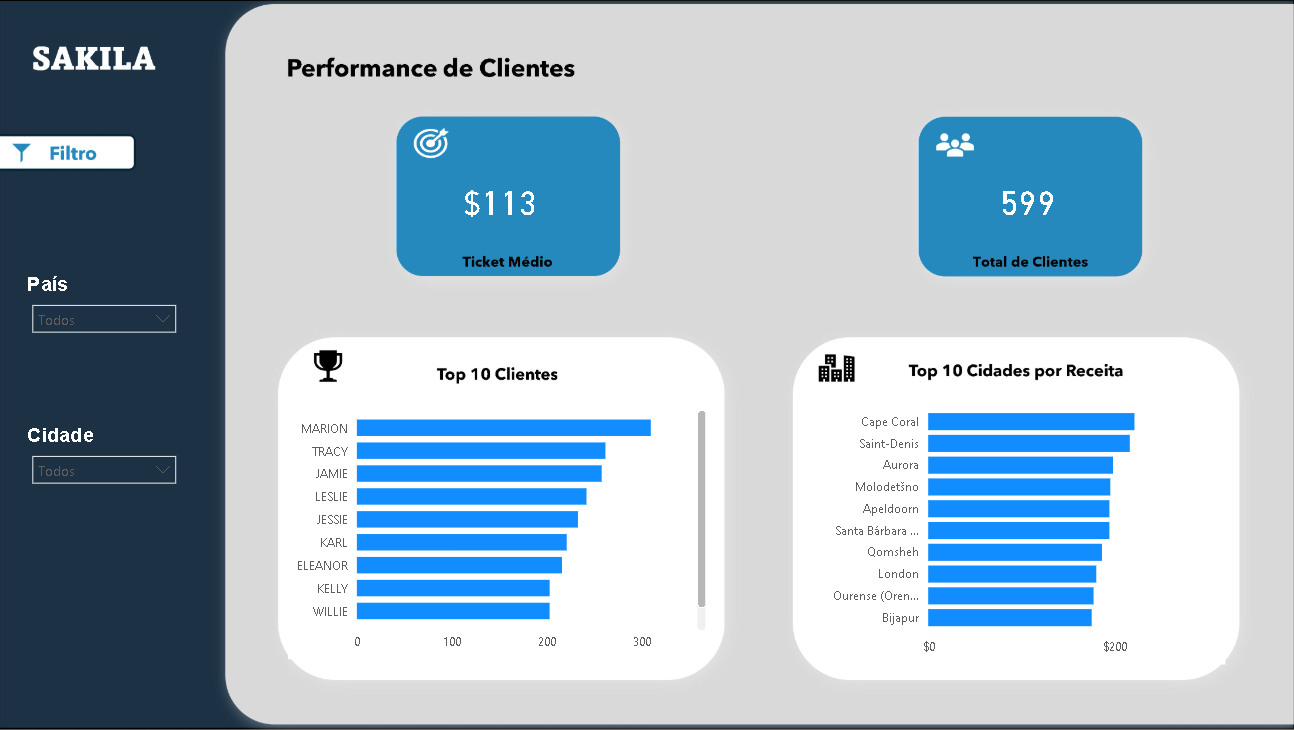

What the dashboard file says about the page in this screenshot:
{"tool":"powerbi","page":{"name":"Página 2","canvas":[1280,720],"ordinal":1},"visuals":[{"type":"barChart","fields":{"Category":["sakila vw_clientes_mais_gastam.Nome","sakila vw_clientes_mais_gastam.Sobrenome"],"Y":["Sum(sakila vw_clientes_mais_gastam.Total_gastos)"]},"box":[283,387.1,411.4,254.8],"z":0},{"type":"barChart","fields":{"Category":["sakila vw_receita_por_cidade.city"],"Y":["Sum(sakila vw_receita_por_cidade.total_receita)"]},"box":[792.7,381.3,401.7,265.5],"z":1000},{"type":"advanceCardE03760C5AB684758B56AA29F9E6C257B","fields":{"mainMeasure":["Sum(sakila vw_ticket_medio_por_cliente.ticket_medio_cliente)"]},"box":[375.4,142,227.6,114.8],"z":2000},{"type":"advanceCardE03760C5AB684758B56AA29F9E6C257B","fields":{"mainMeasure":["Count(sakila vw_clientes_mais_gastam.customer_id)"]},"box":[888,142,227.6,114.8],"z":3000},{"type":"slicer","title":"Cidade","fields":{"Values":["sakila vw_clientes_por_cidade.city"]},"box":[24.3,412.4,159.5,74.9],"z":5000},{"type":"slicer","title":"País","fields":{"Values":["sakila vw_clientes_por_cidade.country"]},"box":[24.3,265.5,159.5,66.1],"z":6001}]}

Visuals, with their boxes on the page's 1280x720 design canvas (x1, y1, x2, y2). These are canvas units, not pixel positions in the 1294x730 screenshot, which may show the page scaled, cropped or inside an application window:
barChart - sakila vw_clientes_mais_gastam.Nome x sakila vw_clientes_mais_gastam.Sobrenome: l=283, t=387, r=694, b=642
barChart - sakila vw_receita_por_cidade.city x Sum(sakila vw_receita_por_cidade.total_receita): l=793, t=381, r=1194, b=647
advanceCardE03760C5AB684758B56AA29F9E6C257B - Sum(sakila vw_ticket_medio_por_cliente.ticket_medio_cliente): l=375, t=142, r=603, b=257
advanceCardE03760C5AB684758B56AA29F9E6C257B - Count(sakila vw_clientes_mais_gastam.customer_id): l=888, t=142, r=1116, b=257
"Cidade" slicer: l=24, t=412, r=184, b=487
"País" slicer: l=24, t=266, r=184, b=332
